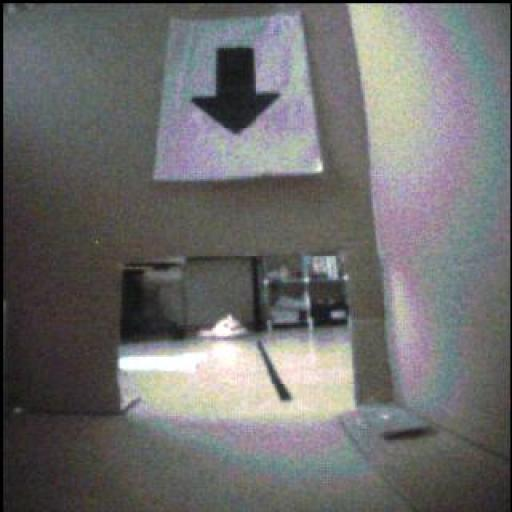arrow: (193, 49, 281, 134)
